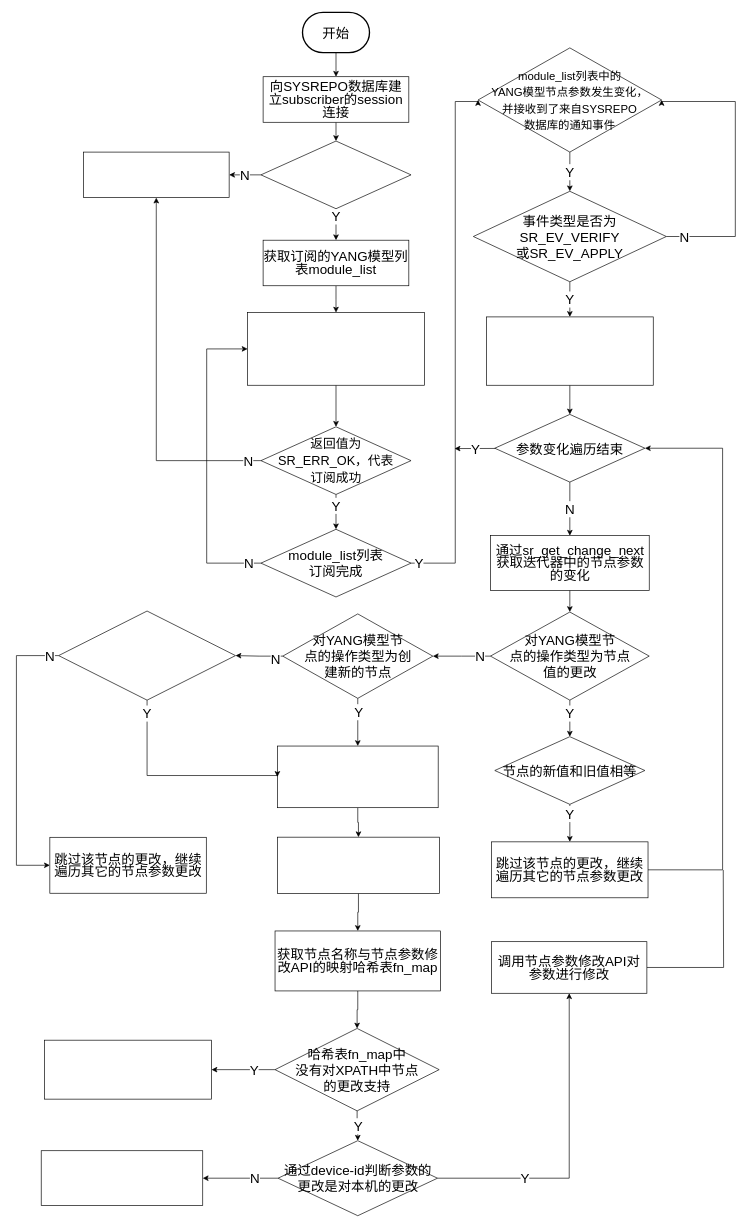
The diagram is 752 pixels wide and 1227 high, and some of its shapes have lost their labels. The shapes that lost their labels are listed below. From the top down, each one's box as (x1, y1, x2, y2) in pixels, then its label:
(83, 151, 229, 198): 清空 交换机占用资源并退出
(260, 140, 411, 209): session建立成功
(247, 312, 424, 385): 遍历 module_list， 通过 sr_module_change_subscribe 方法订阅 module_list 中的 YANG模型
(486, 316, 653, 385): 通过sr_get_changes_iter迭代器遍历SYSREPO数据库 中指定module 节点参数 的 变化
(58, 610, 236, 700): 对YANG模型节 点的操作类型为节 点值的删除
(277, 745, 438, 808): 获取发生变化节点的XPATH，通过XPATH能够 确定哪一个节点发生了变化
(277, 836, 440, 893): 通过正则表达式对节点进行匹配，获取XPATH中的节点名称
(44, 1040, 212, 1099): 返回异常代码SR_ERR_UNSUPPORTED
(41, 1150, 203, 1206): 返回代码SR_ERR_OK
